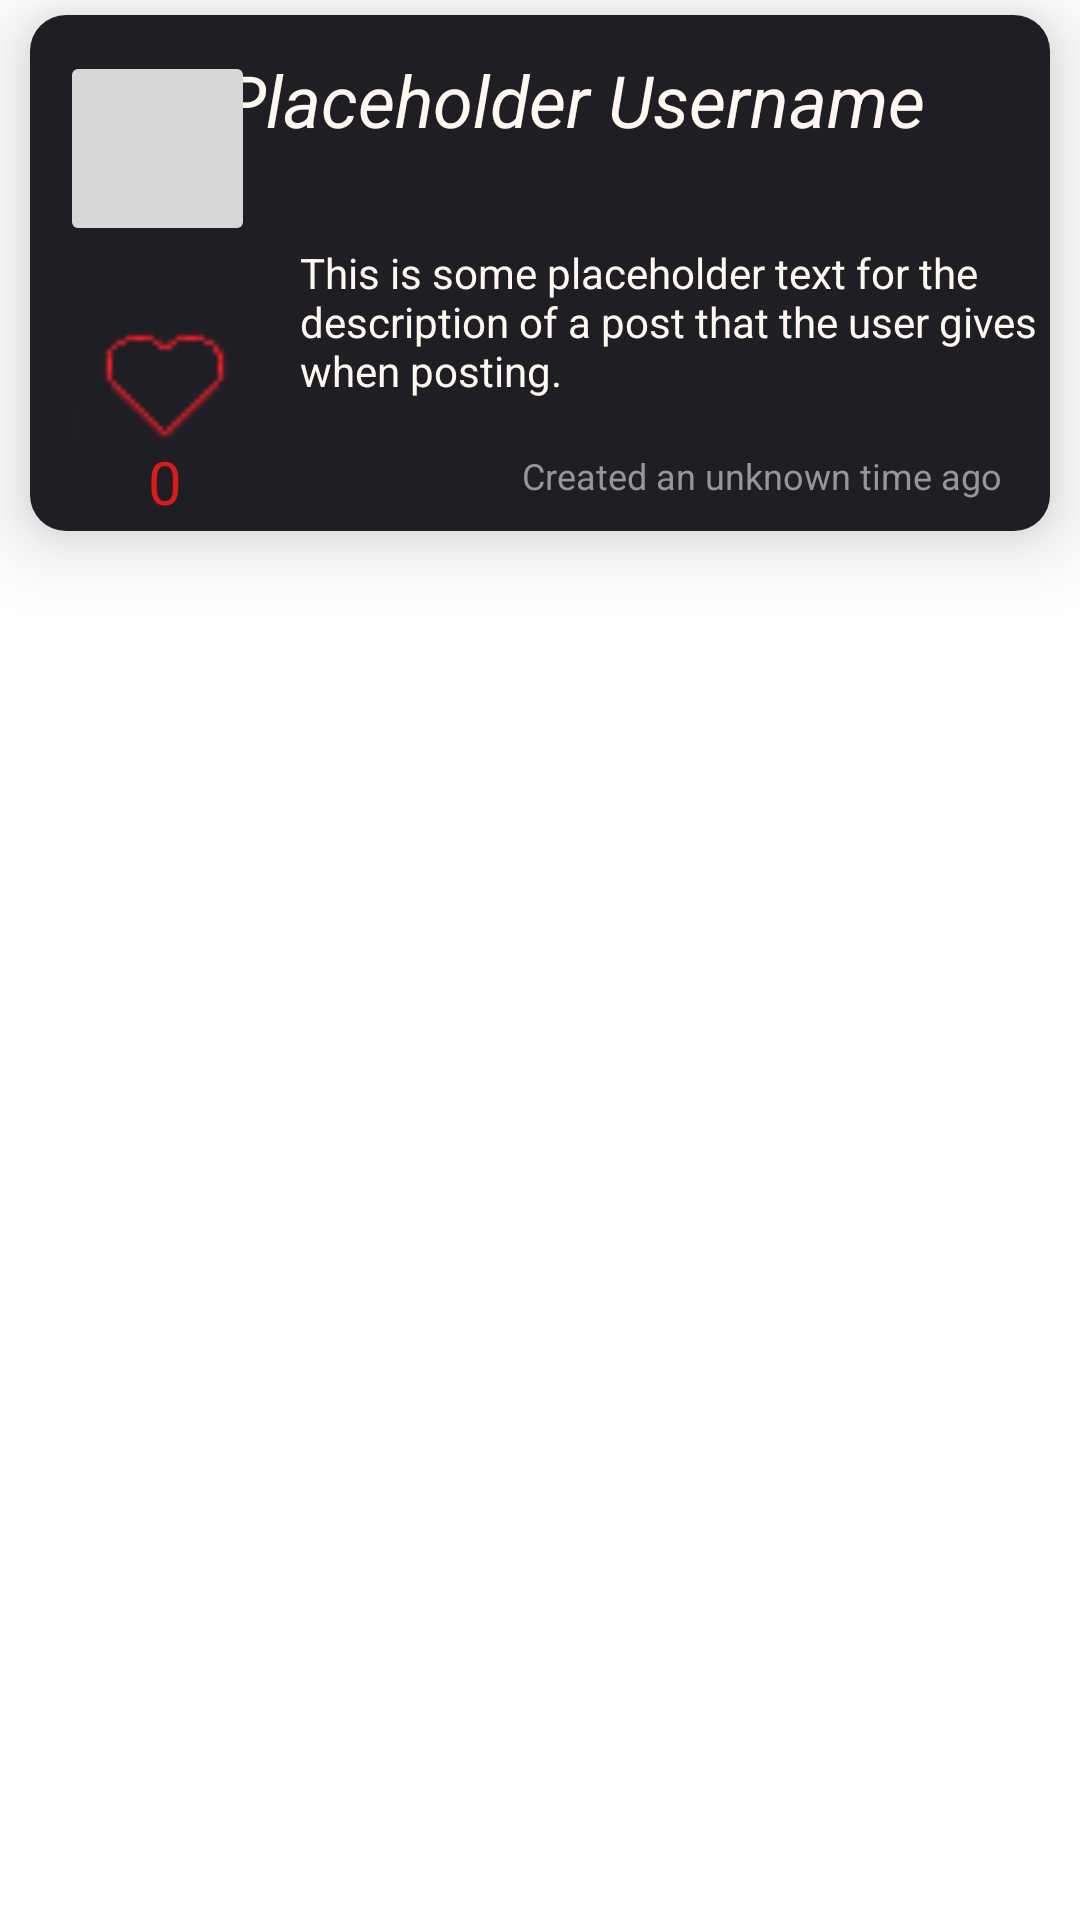

Screen size 1080×1920. Icon name, then its box in pixels as (x1, y1, x2, y2):
like: (105, 334, 225, 437)
